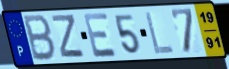5: (112, 12, 143, 55)
7: (170, 7, 196, 56)
B: (22, 14, 57, 63)
E: (81, 11, 119, 59)
L: (144, 10, 177, 57)
Z: (50, 13, 87, 59)
